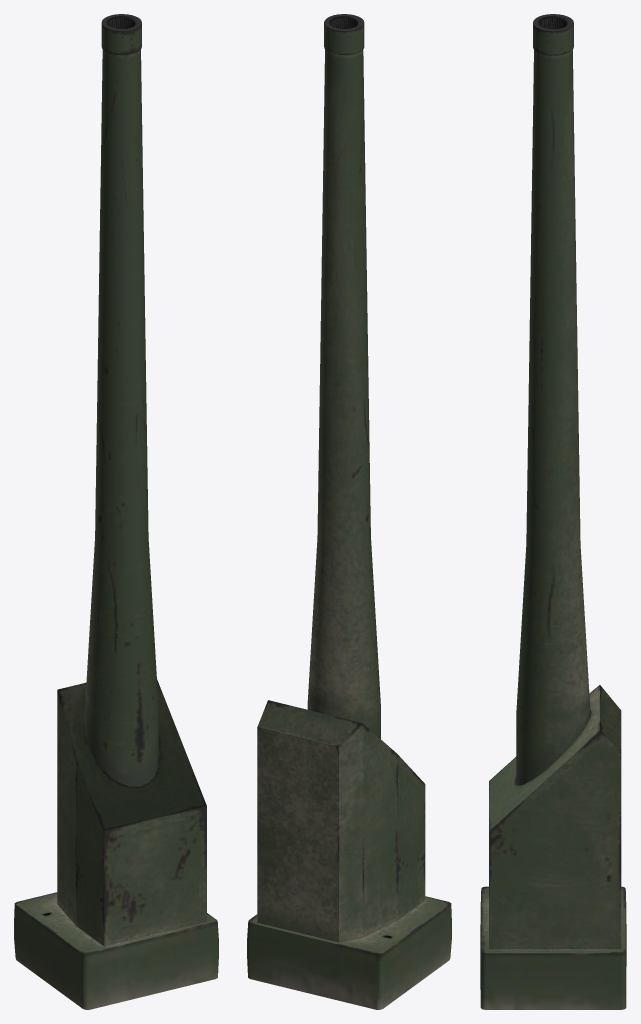
Rendered from Gun_03.glb.
The picture shows the model from 3 angles, left to right: view 1: azimuth 30°, elevation 25°; view 2: azimuth 150°, elevation 25°; view 3: azimuth 270°, elevation 25°; orthographic projection.
Parts seen in each view (by area): view 1: set_0_group_0; view 2: set_0_group_0; view 3: set_0_group_0.
Part boxes in pixels (x1,y1,x2,y2): set_0_group_0: (14,14,218,1009); set_0_group_0: (247,14,451,1009); set_0_group_0: (480,14,626,1009).
Size of the model in its own units: 0.7084 by 4.66 by 0.6447.
1 material, 1 textured.
